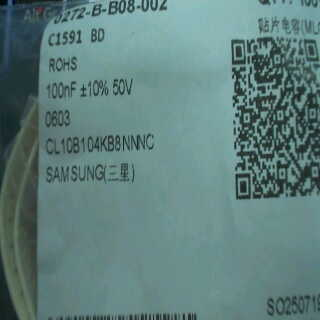100nF: (43, 75, 81, 105)
